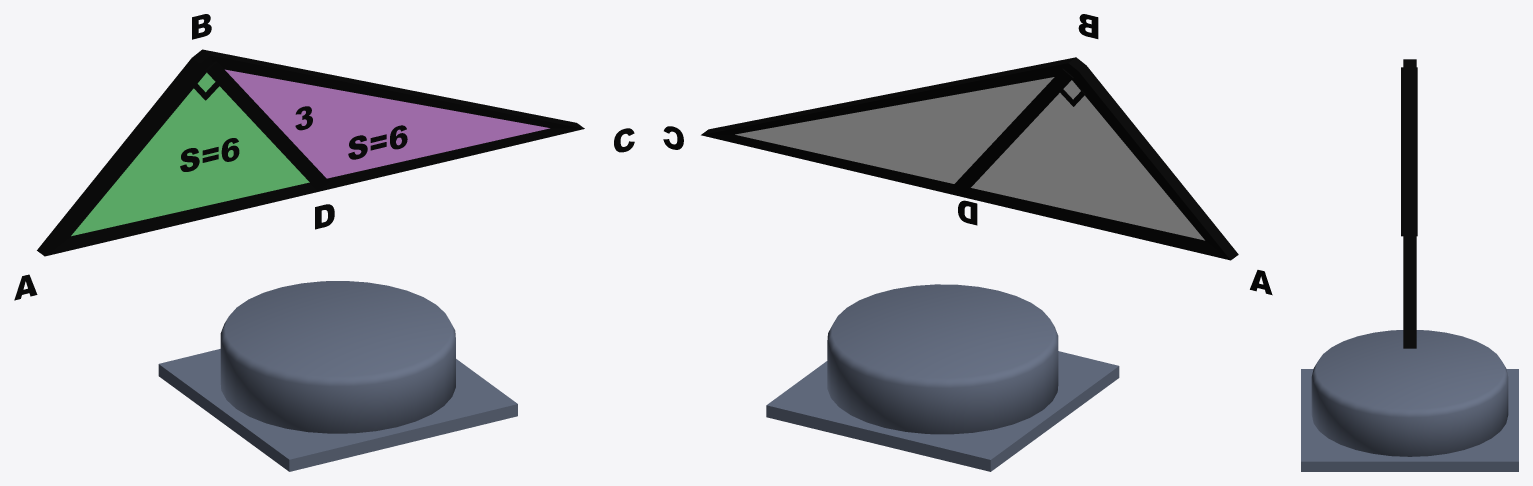
3 views of the same model, side by side, from view 1: azimuth 30°, elevation 25°; view 2: azimuth 150°, elevation 25°; view 3: azimuth 270°, elevation 25° (orthographic). The views are drawn at different scales.
Visible parts, largest first — view 1: Cube.006, Cylinder, Cube, Cube.001, Text.004, Text.003; view 2: Cube.006, Cylinder, Cube, Cube.001; view 3: Cylinder, Cube, Cube.006, Cube.001.
Part boxes in pixels (bbox=[...]): Cube.006: bbox=[37, 49, 584, 256]; Cylinder: bbox=[220, 281, 455, 433]; Cube: bbox=[158, 349, 517, 471]; Cube.001: bbox=[205, 61, 328, 190]; Text.004: bbox=[348, 125, 407, 159]; Text.003: bbox=[180, 138, 239, 171]; Cube.006: bbox=[701, 57, 1238, 260]; Cylinder: bbox=[827, 284, 1058, 434]; Cube: bbox=[766, 351, 1119, 471]; Cube.001: bbox=[952, 68, 1073, 195]; Cylinder: bbox=[1311, 330, 1508, 456]; Cube: bbox=[1301, 369, 1518, 471]; Cube.006: bbox=[1403, 59, 1416, 348]; Cube.001: bbox=[1401, 67, 1417, 236].
Size of the model in its own units: 24.86 by 16.09 by 9.09.
